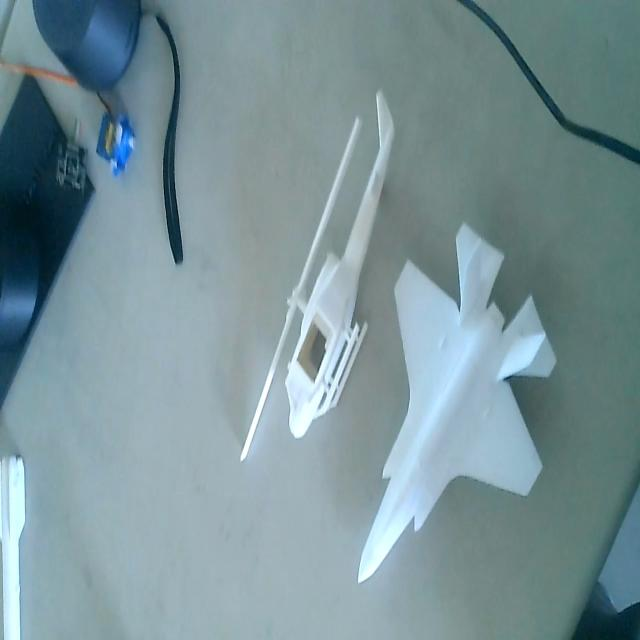Helicopter: (234, 90, 395, 476)
Jet: (358, 226, 558, 590)
Rocket: (0, 453, 25, 640)
